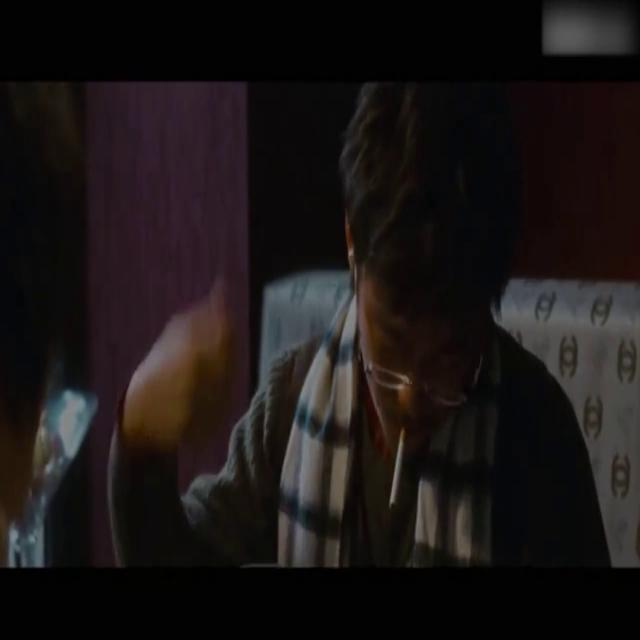smoking: (388, 422, 408, 514)
